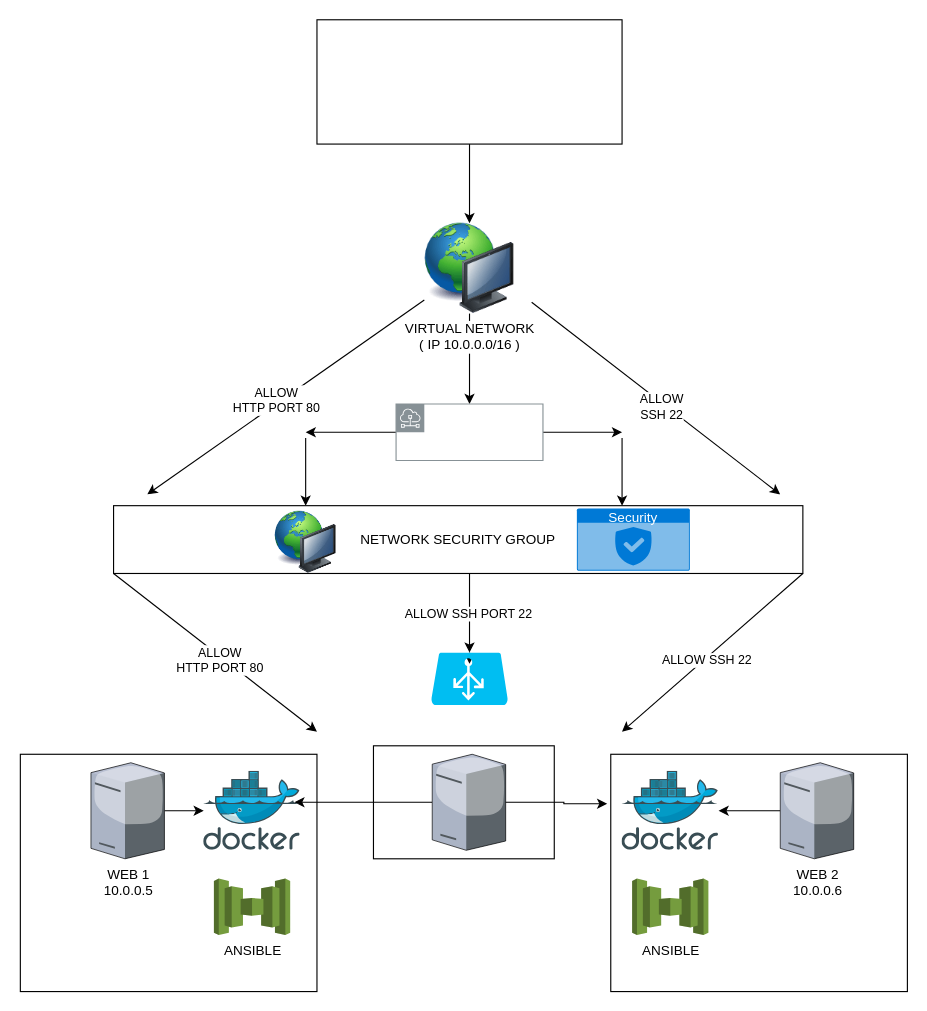
The diagram is 927 pixels wide and 1011 high, and some of its shapes have lost their labels. Here are the shapes that lost their labels. From the top down, the centre of each, then its label:
At (469,81): "RESOURCE GROUP ( RED TEAM )".
At (469,431): "Subnet Range ( 10.0.0.0/24 )".
At (469,678): "LOAD BALANCER".
At (468,802): "REDTEAM VM 10.0.0.4".
